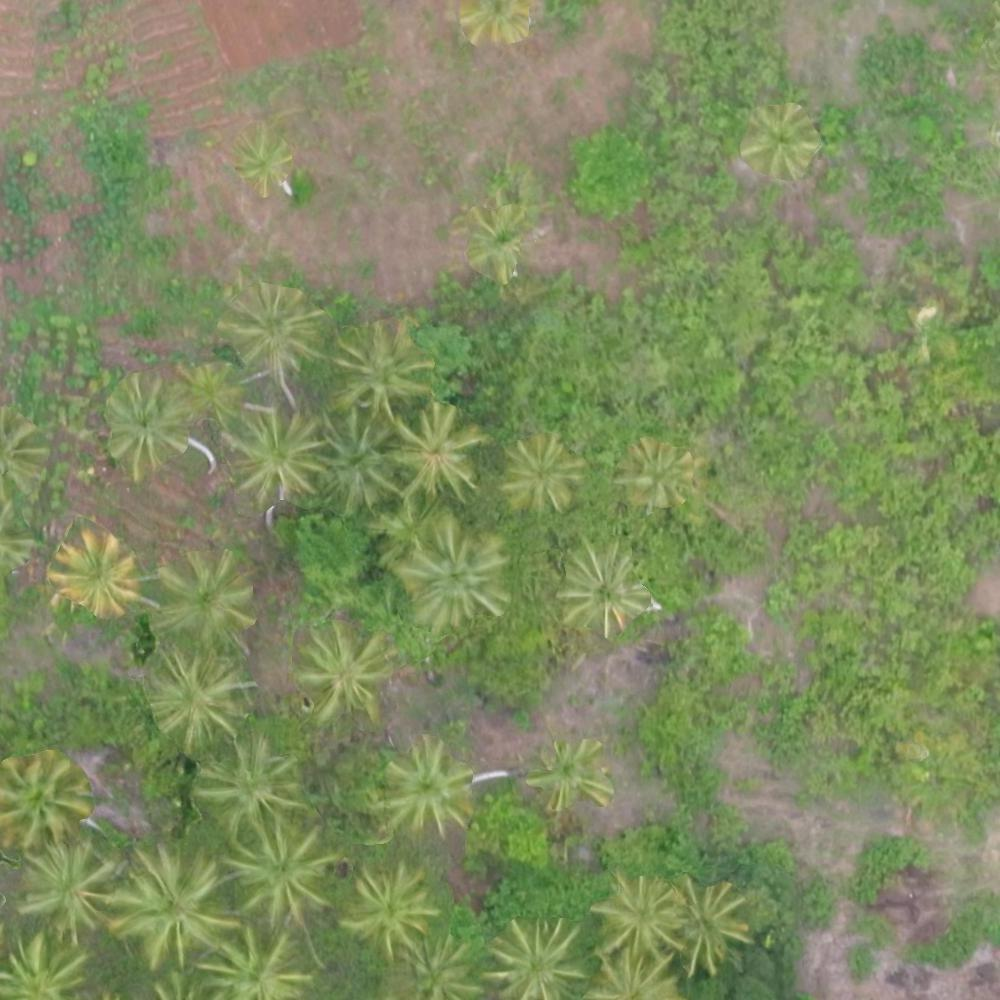Palm: (115, 845, 229, 960), (398, 522, 502, 623), (227, 826, 336, 921), (150, 650, 250, 750), (199, 735, 300, 831), (15, 844, 116, 939), (218, 406, 321, 499), (310, 407, 403, 507), (344, 859, 437, 956), (158, 549, 251, 644), (294, 624, 390, 715), (383, 736, 474, 832), (559, 539, 650, 634), (395, 406, 483, 504), (332, 324, 431, 411), (229, 279, 316, 373), (671, 882, 758, 976), (595, 873, 684, 963), (3, 752, 86, 847), (484, 917, 580, 998), (203, 927, 306, 1000), (108, 377, 191, 462), (55, 530, 135, 613), (500, 431, 587, 506), (535, 738, 615, 816), (463, 200, 534, 279), (742, 105, 814, 179), (619, 440, 691, 508), (236, 125, 293, 194)
